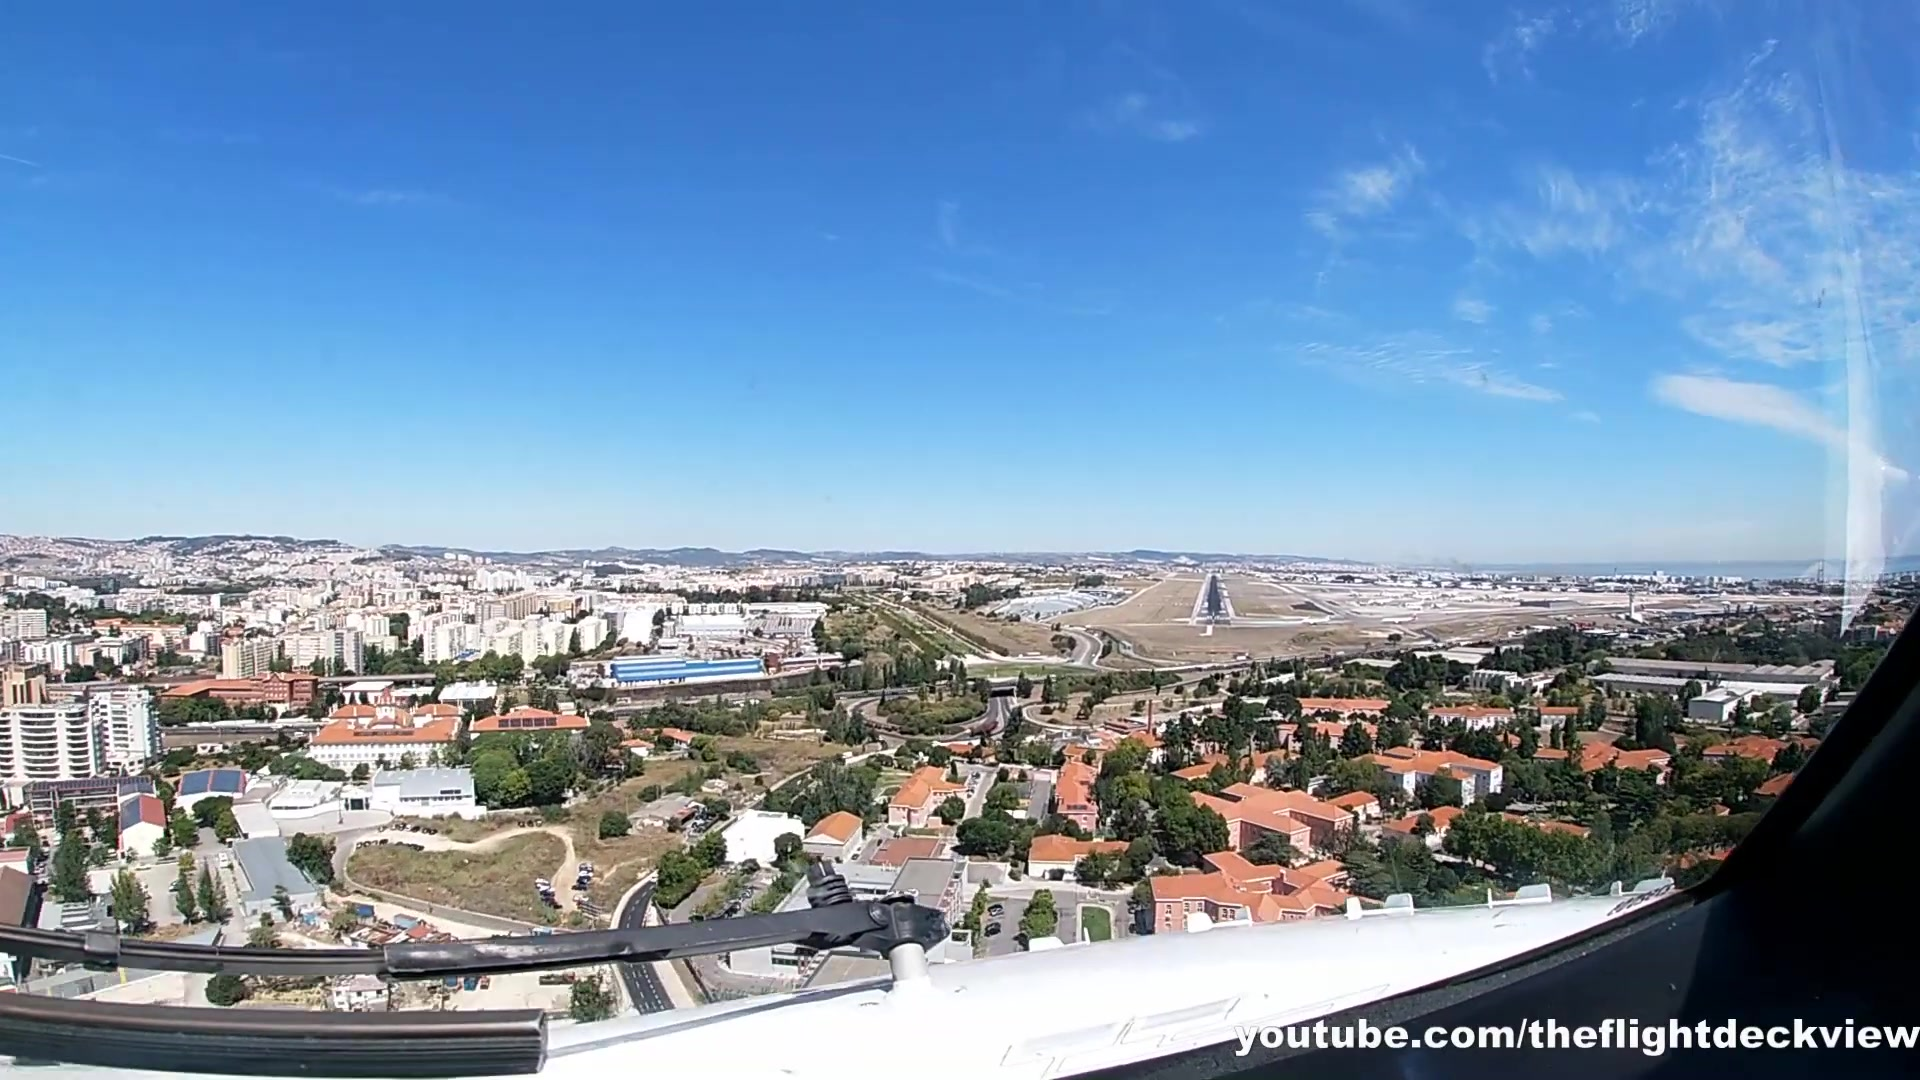runway: (1191, 576, 1238, 626)
